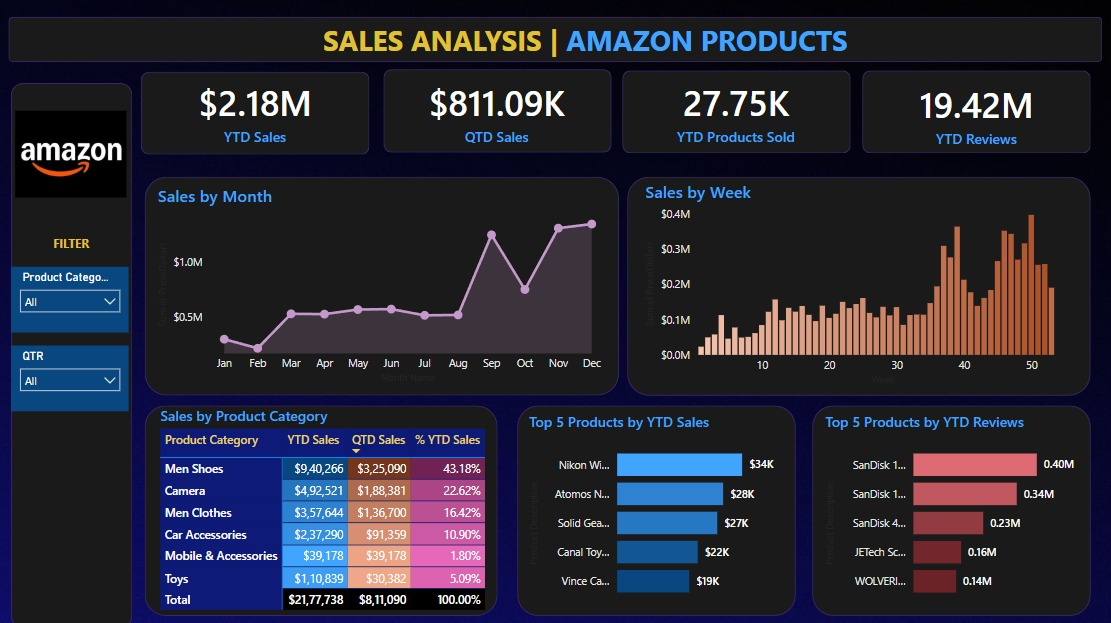

What the dashboard file says about the page in this screenshot:
{"tool":"powerbi","page":{"name":"Page 1","canvas":[1280,720],"ordinal":0},"visuals":[{"type":"shape","box":[14.5,21.7,1249.9,51.9],"z":0},{"type":"shape","box":[17.1,97.1,138.6,622.9],"z":1000},{"type":"textbox","box":[368.6,21.4,621.4,54.3],"z":2000},{"type":"shape","box":[166.4,83.8,261.2,94.7],"z":3000},{"type":"card","fields":{"Values":["Amazon_Data.YTD Sales"]},"box":[170.1,88.7,252.6,82.6],"z":4000},{"type":"shape","box":[442.4,82,260.6,95.3],"z":5000},{"type":"card","fields":{"Values":["Amazon_Data.QTD Sales"]},"box":[453.1,86.2,239.3,88.7],"z":5500},{"type":"shape","box":[715.4,82.6,261.2,94.7],"z":6000},{"type":"shape","box":[989.9,82.6,261.2,94.7],"z":8000},{"type":"card","fields":{"Values":["Amazon_Data.YTD Reviews"]},"box":[998.4,91.1,244.1,81.4],"z":8002},{"type":"card","fields":{"Values":["Amazon_Data.YTD Products Sold"]},"box":[721.5,82.6,249,93.5],"z":8003},{"type":"shape","box":[170.1,204.1,542,250],"z":8004},{"type":"areaChart","title":"Sales by Month","fields":{"Category":["Date Table.Month Name"],"Y":["Amazon_Data.Price(Dollar)"]},"box":[179.6,212.3,521.3,232.4],"z":8005},{"type":"shape","box":[721.5,204.1,529.6,250.2],"z":8006},{"type":"columnChart","title":"Sales by Week","fields":{"Category":["Date Table.Week"],"Y":["Amazon_Data.Price(Dollar)"]},"box":[737.3,208.9,496.8,239.3],"z":8007},{"type":"shape","box":[170.1,465.2,403.3,240.5],"z":8008},{"type":"pivotTable","title":"Sales by Product Category","fields":{"Rows":["Amazon_Data.Product Category"],"Values":["Amazon_Data.YTD Sales1","Amazon_Data.QTD Sales","Amazon_Data.YTD Sales"]},"box":[182.2,465.2,389.9,240.5],"z":8009},{"type":"shape","box":[595.2,465.2,318.2,240.5],"z":8010},{"type":"shape","box":[932.9,465.2,318.2,240.5],"z":8011},{"type":"clusteredBarChart","title":"Top 5 Products by YTD Sales","fields":{"Category":["Amazon_Data.Product Description"],"Y":["Amazon_Data.YTD Sales"]},"box":[604.9,472.5,300,225.9],"z":8012},{"type":"clusteredBarChart","title":"Top 5 Products by YTD Reviews","fields":{"Category":["Amazon_Data.Product Description"],"Y":["Amazon_Data.YTD Reviews"]},"box":[943.4,472.3,299,226.1],"z":8013},{"type":"slicer","fields":{"Values":["Amazon_Data.Product Category"]},"box":[17.6,306.5,134.4,75.4],"z":8014},{"type":"slicer","fields":{"Values":["Date Table.QTR"]},"box":[17.6,396.9,134.4,75.4],"z":8015},{"type":"image","box":[17.1,112.9,137.1,131.4],"z":8016},{"type":"textbox","box":[51.4,262.9,68.6,32.9],"z":8017}]}

Visuals, with their boxes in screenshot pixels (x1, y1, x2, y2), scaled from the page's 1280x720 canvas onto the 1111x623 screenshot:
shape: region(13, 19, 1097, 64)
shape: region(15, 84, 135, 622)
textbox: region(320, 19, 859, 66)
shape: region(144, 73, 371, 154)
card - Amazon_Data.YTD Sales: region(148, 77, 367, 148)
shape: region(384, 71, 610, 153)
card - Amazon_Data.QTD Sales: region(393, 75, 601, 151)
shape: region(621, 71, 848, 153)
shape: region(859, 71, 1086, 153)
card - Amazon_Data.YTD Reviews: region(867, 79, 1078, 149)
card - Amazon_Data.YTD Products Sold: region(626, 71, 842, 152)
shape: region(148, 177, 618, 393)
"Sales by Month" areaChart: region(156, 184, 608, 385)
shape: region(626, 177, 1086, 393)
"Sales by Week" columnChart: region(640, 181, 1071, 388)
shape: region(148, 403, 498, 611)
"Sales by Product Category" pivotTable: region(158, 403, 497, 611)
shape: region(517, 403, 793, 611)
shape: region(810, 403, 1086, 611)
"Top 5 Products by YTD Sales" clusteredBarChart: region(525, 409, 785, 604)
"Top 5 Products by YTD Reviews" clusteredBarChart: region(819, 409, 1078, 604)
slicer - Amazon_Data.Product Category: region(15, 265, 132, 330)
slicer - Date Table.QTR: region(15, 343, 132, 409)
image: region(15, 98, 134, 211)
textbox: region(45, 227, 104, 256)
